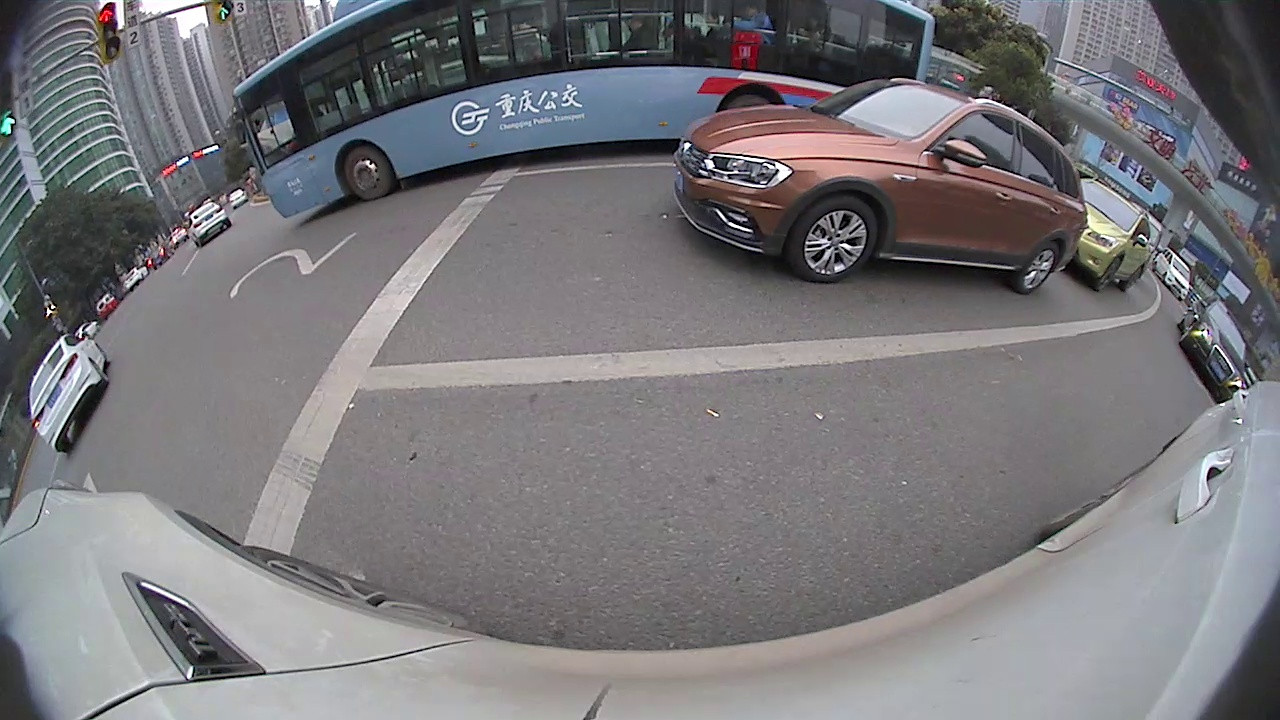bus: (233, 1, 933, 219)
car: (671, 78, 1083, 296), (27, 328, 110, 454), (1070, 178, 1153, 293), (1176, 298, 1248, 403), (187, 200, 232, 248), (1153, 247, 1193, 295)
front: (785, 192, 882, 284), (338, 147, 395, 203), (1092, 254, 1124, 293)
rear: (1010, 241, 1060, 295), (1118, 265, 1147, 295), (90, 355, 113, 387)
